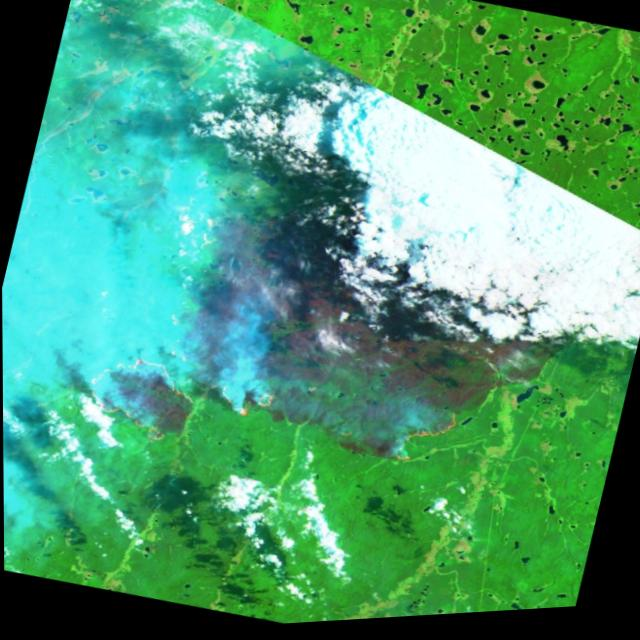fire: (72, 341, 203, 452), (379, 395, 469, 483), (206, 375, 283, 429)
